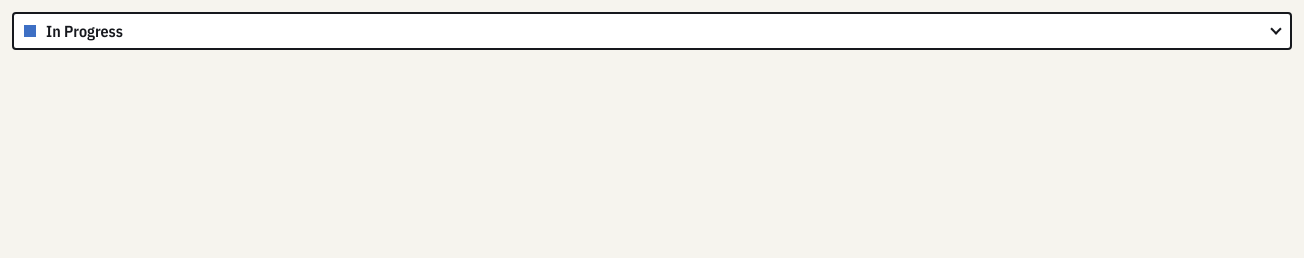
Test: the open list › loadsAgainEachTimeItOpens
This screenshot has width=1304, height=258.
Click the dropdown named "status". click: (652, 31)
box: 12,12 -> 1292,50
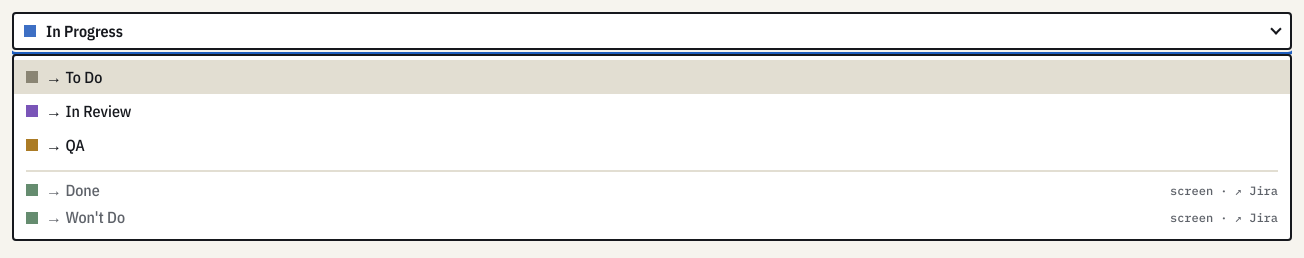
Now the list is shown
Press Escape
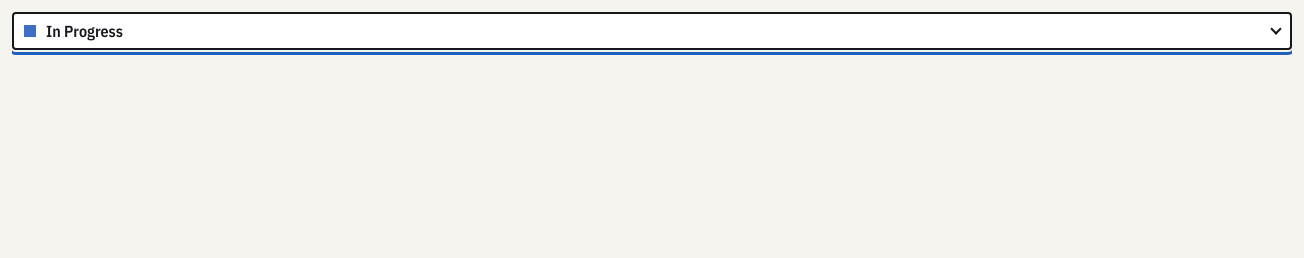
Now the list is gone
Click the dropdown named "status". click: (652, 31)
box: 12,12 -> 1292,50
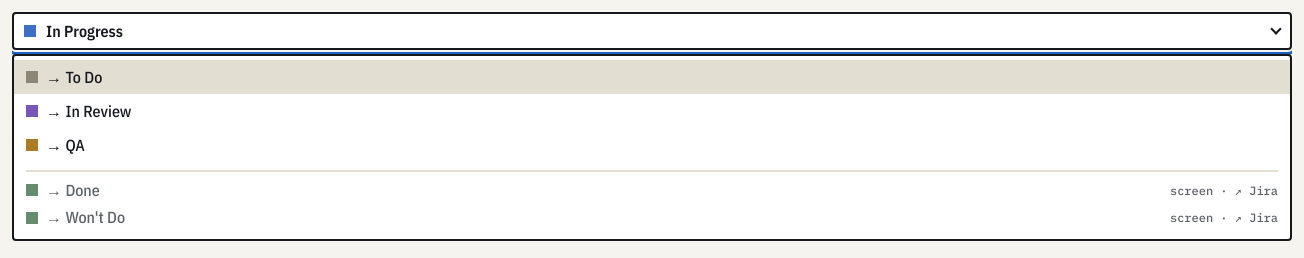
Now the list is shown
